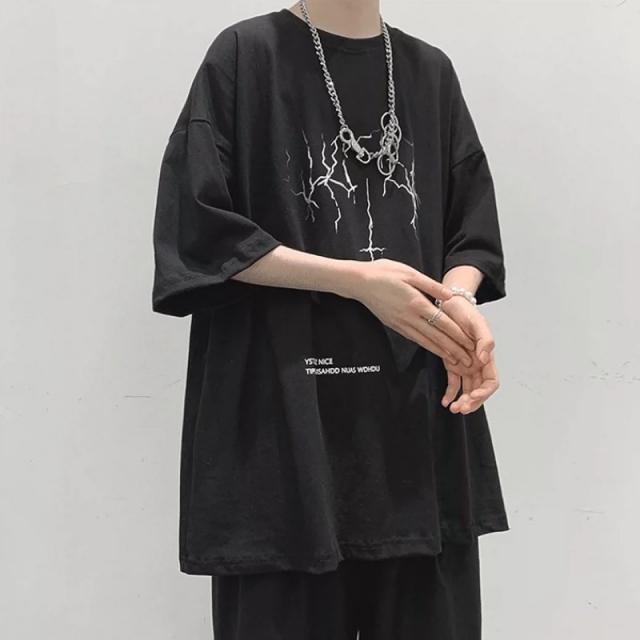Shirt: (142, 6, 514, 581)
